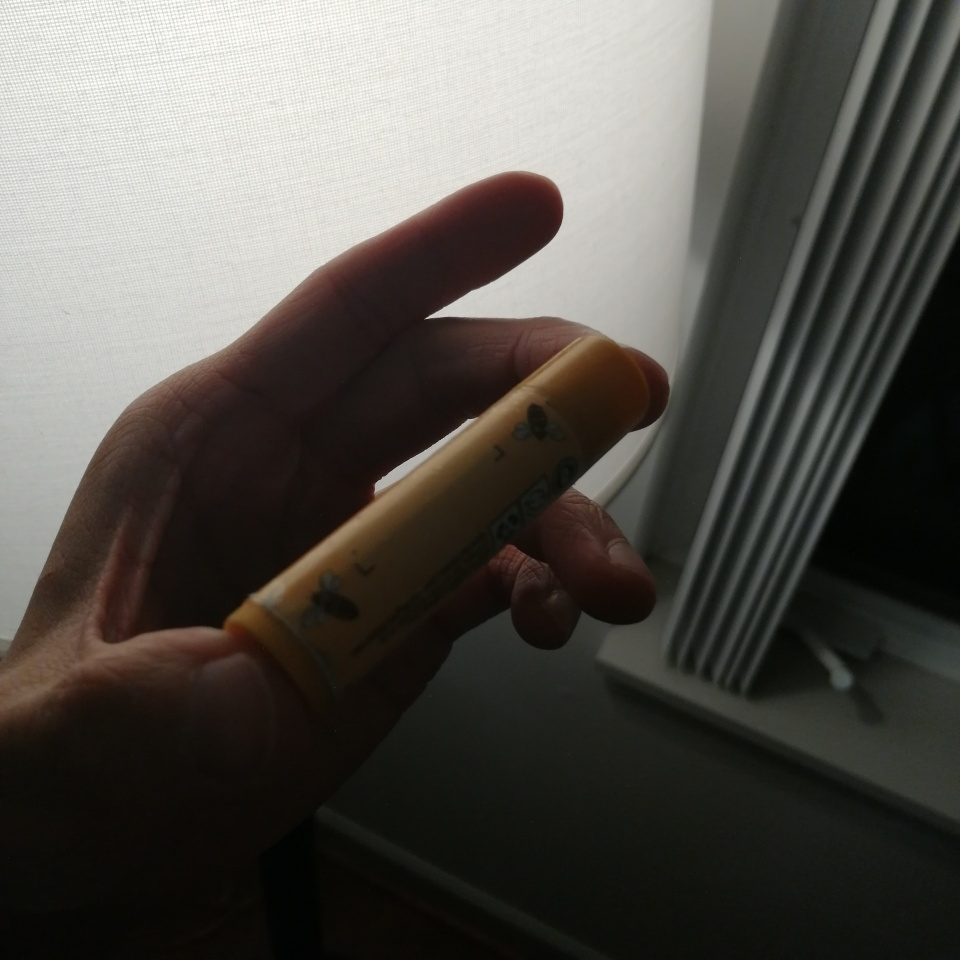chapstick: (223, 335, 653, 721)
